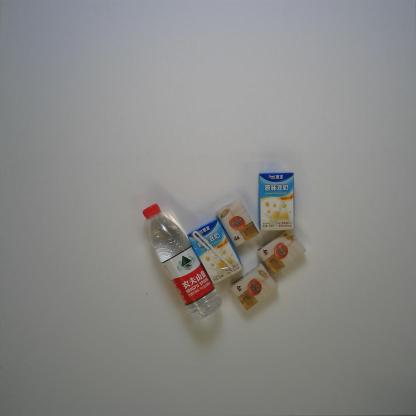Drink: (142, 203, 223, 322)
Milk: (187, 218, 244, 286), (258, 172, 295, 232)
Tissue: (230, 262, 278, 312), (256, 230, 307, 274), (216, 199, 259, 248)
